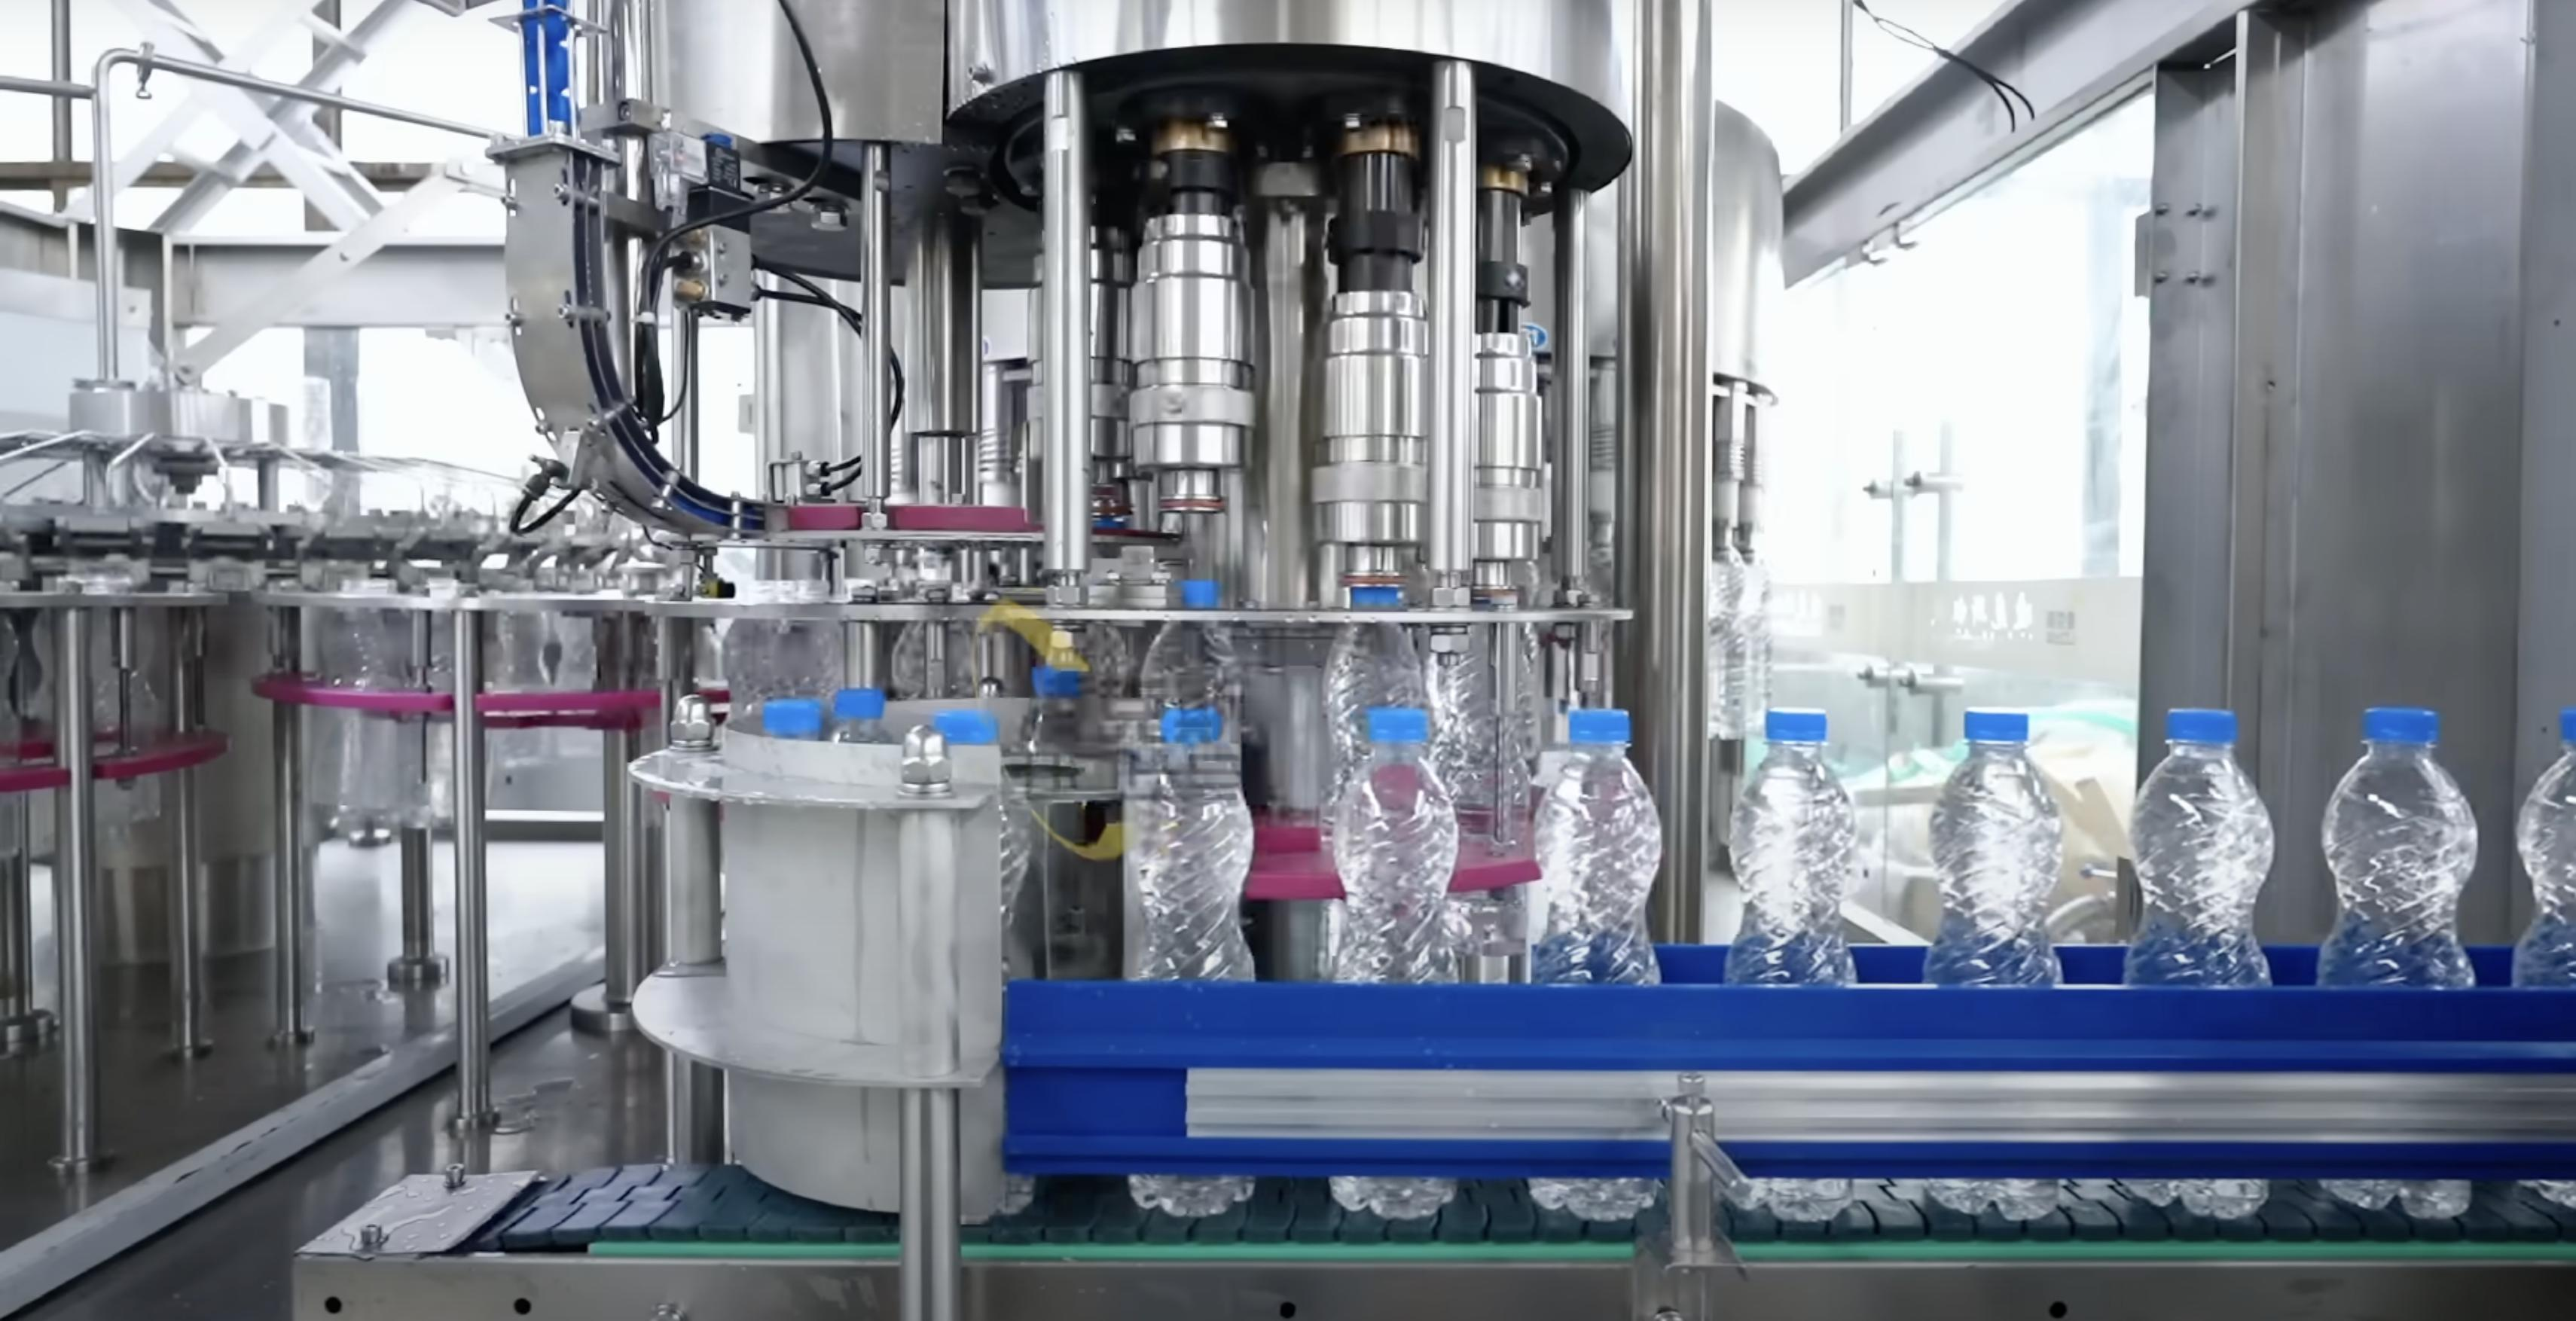bottle: (2317, 676, 2483, 996), (2116, 689, 2285, 987), (1124, 689, 1267, 989), (1936, 701, 2079, 1001), (1333, 709, 1469, 986), (1727, 703, 1860, 977), (1545, 699, 1656, 986)
